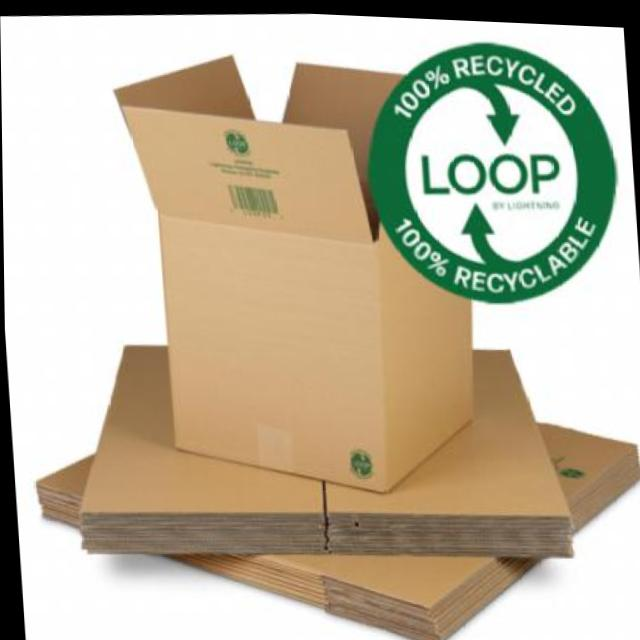box: (101, 38, 501, 510), (28, 379, 640, 640), (64, 285, 580, 590)
